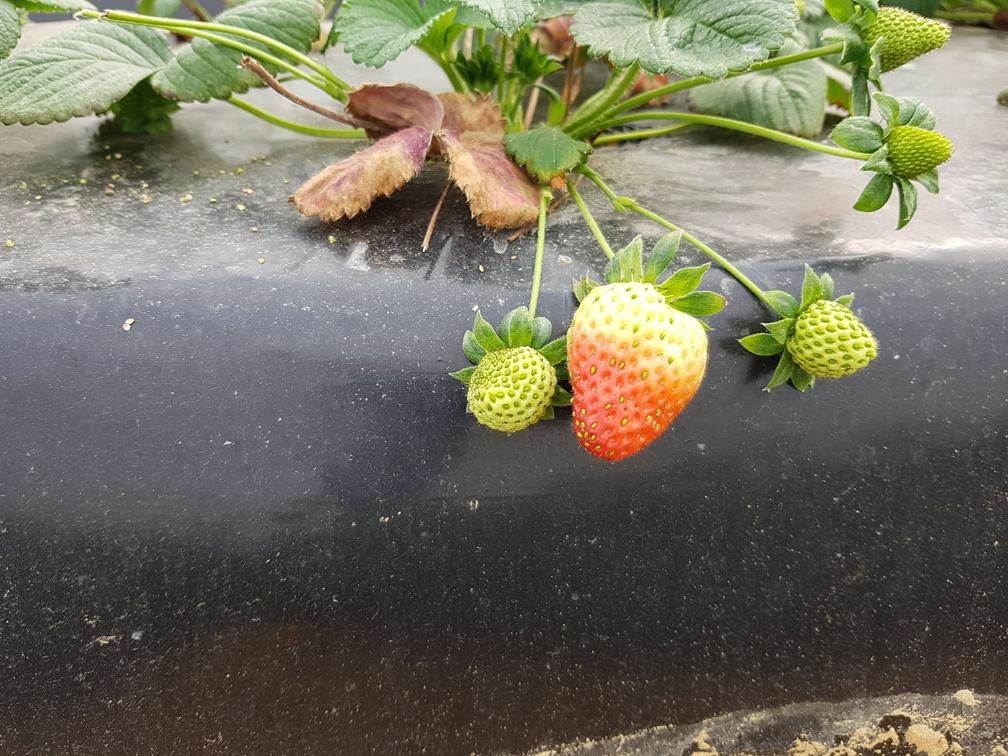Ripe: (561, 271, 720, 467)
Unripe: (784, 296, 881, 381), (466, 350, 558, 433), (868, 0, 961, 76), (890, 122, 959, 185)
